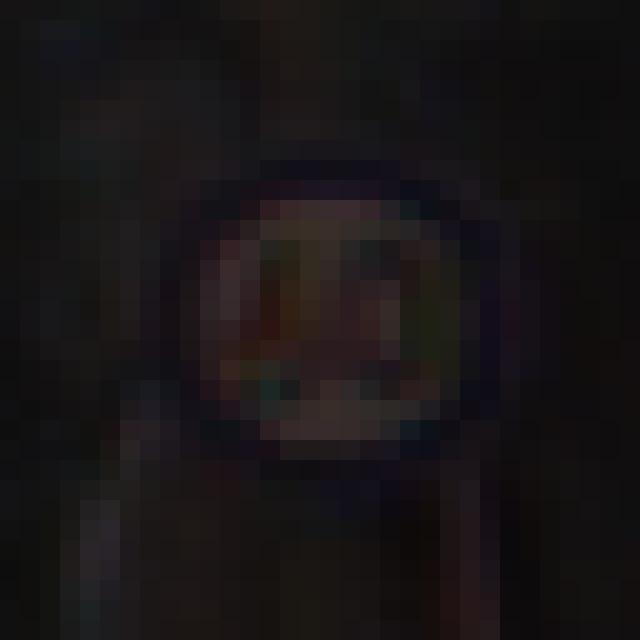SPEED-LIMIT-60: (157, 141, 524, 492)
